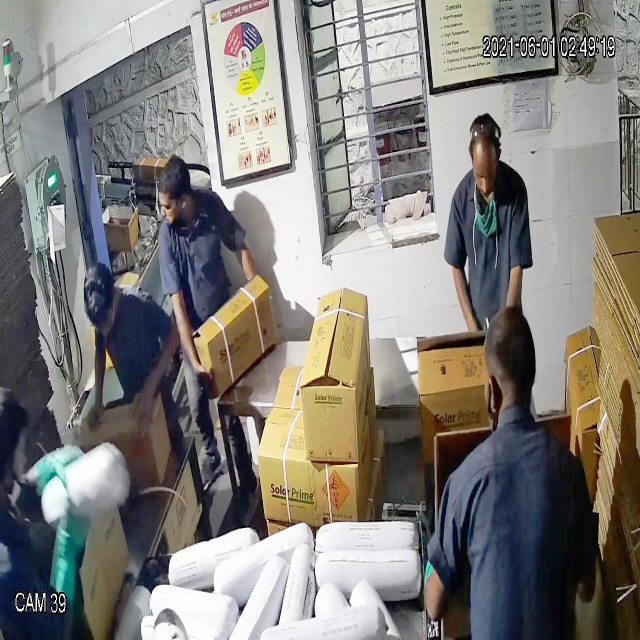Sin_gafas: (465, 157, 505, 188)
